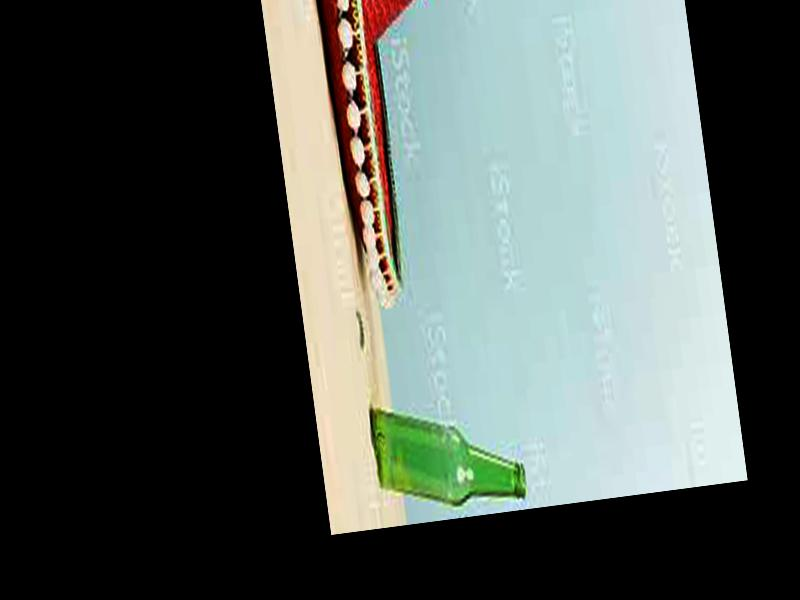Beer: (364, 387, 528, 513)
